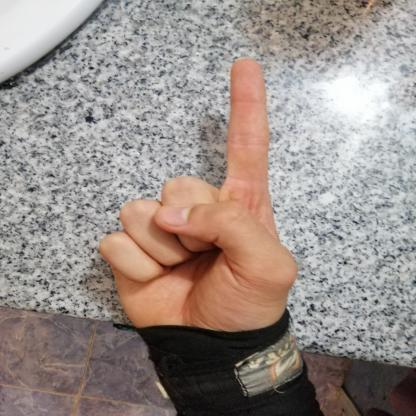BAA: (88, 48, 306, 350)
